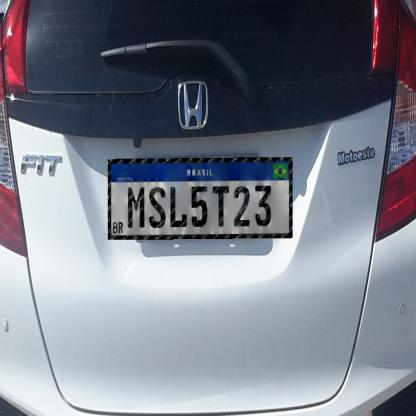PlacaM: (108, 157, 292, 240)
